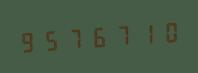five: (40, 24, 62, 55)
nine: (17, 25, 39, 57)
one: (132, 17, 154, 49)
seven: (63, 22, 85, 53), (109, 19, 131, 50)
six: (86, 20, 108, 52)
zero: (155, 16, 177, 47)
